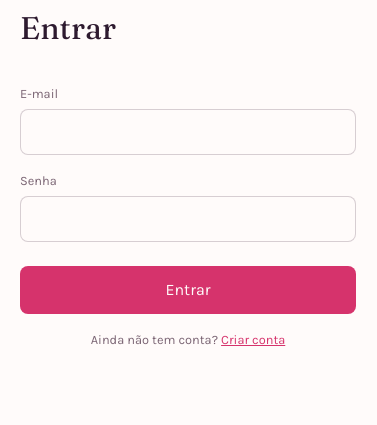
Test: Login › RN-10: credencial errada mostra a mensagem GENERICA do servidor e nao navega
Type "ana@mail.com" into the field labelled "E-mail".
click(188, 132); type("ana@mail.com")  # box top-left (20, 109), bottom-right (356, 155)
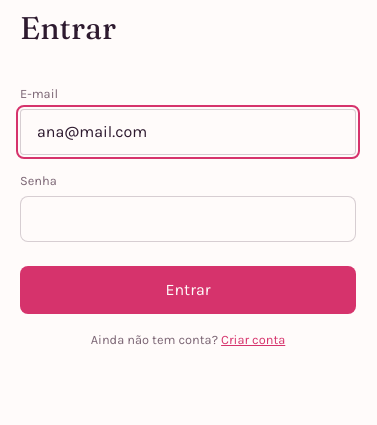
Type "senha-qualquer" into the password field labelled "Senha".
click(188, 219); type("senha-qualquer")  # box top-left (20, 196), bottom-right (356, 242)
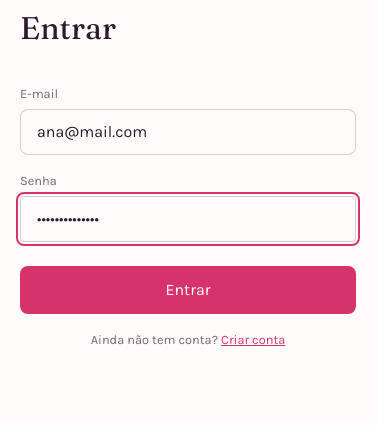
Click the button "Entrar".
click(188, 290)  # box top-left (20, 266), bottom-right (356, 314)
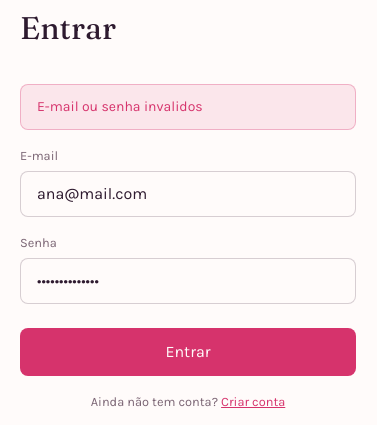
Check: the button "Entrar" is enabled, box top-left (20, 328), bottom-right (356, 376)
Check: the message reads "E-mail ou senha invalidos", box top-left (37, 98), bottom-right (203, 115)
